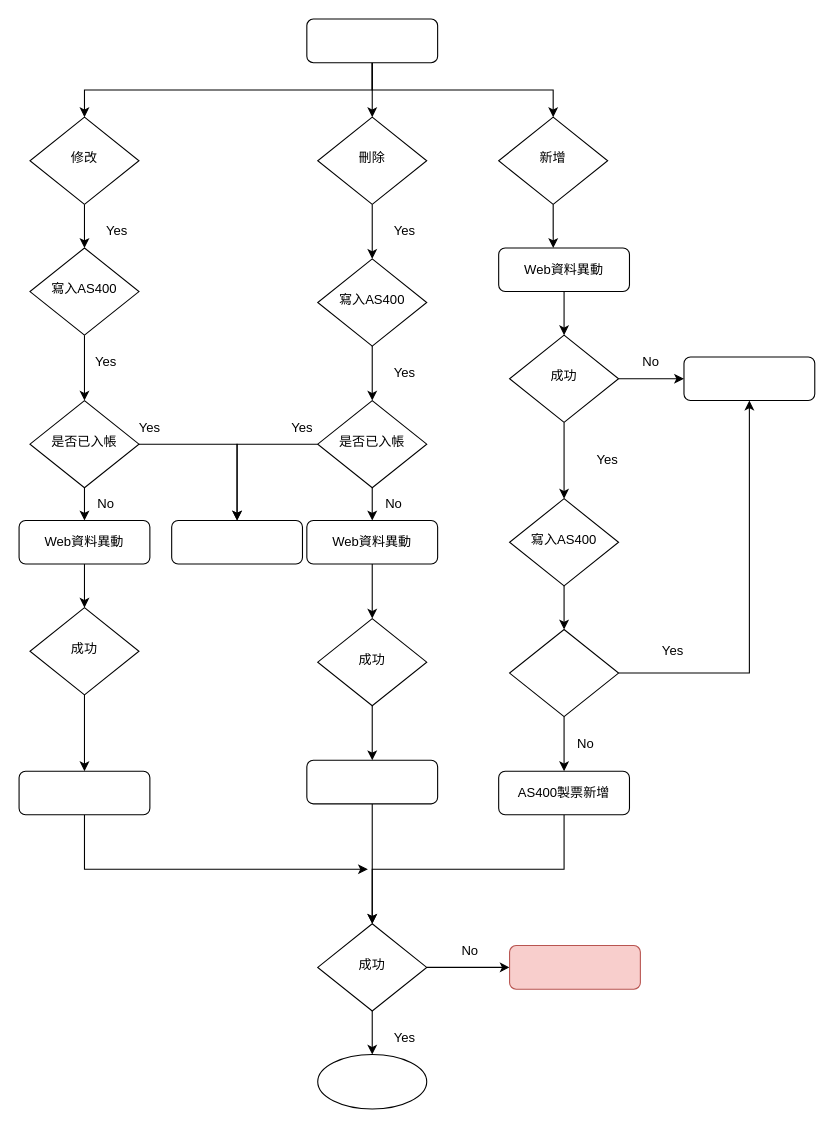
Image size: 834x1128. Some labels were removed from this diagram. Here are the shapes that lost their labels. From the top down, the box of each, then its label:
(306, 18, 438, 63): Web製票維護
(683, 356, 815, 401): 提示錯誤訊息!!
(171, 519, 302, 564): 提示已入帳 不能異動
(508, 628, 619, 717): 是否已關帳
(18, 770, 150, 815): AS400製票更新
(306, 759, 438, 804): AS400製票刪除
(508, 944, 640, 989): 重拋機制??
(317, 1053, 427, 1109): 結束
